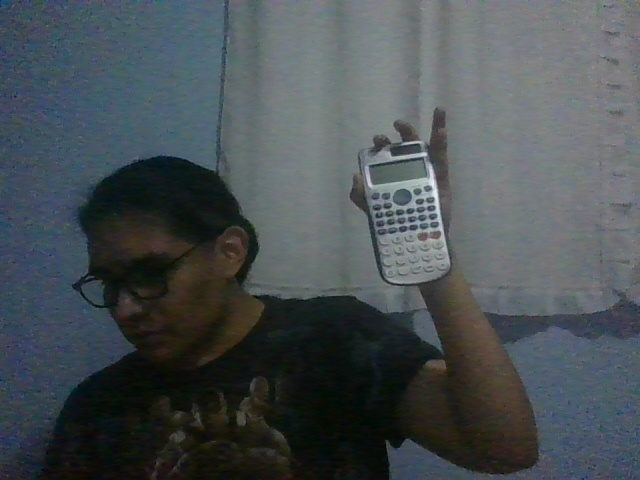calculadora: (356, 140, 453, 286)
